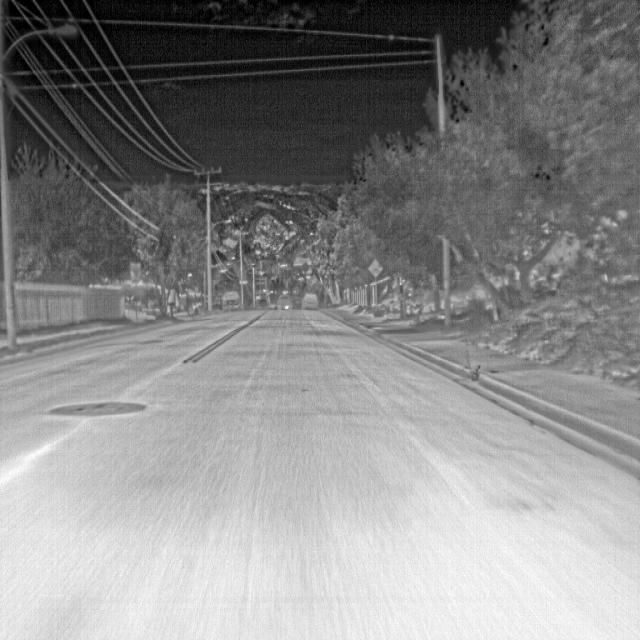Vehicle: (221, 290, 242, 314), (300, 291, 320, 311)
